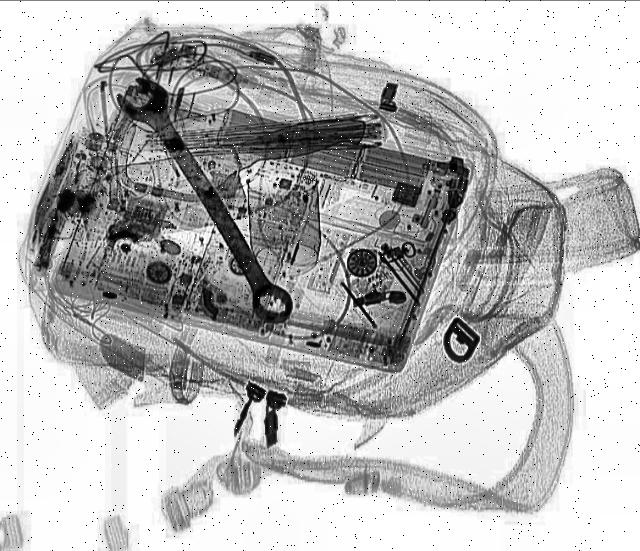Knife: (65, 110, 389, 250)
Wrench: (113, 73, 305, 330)
